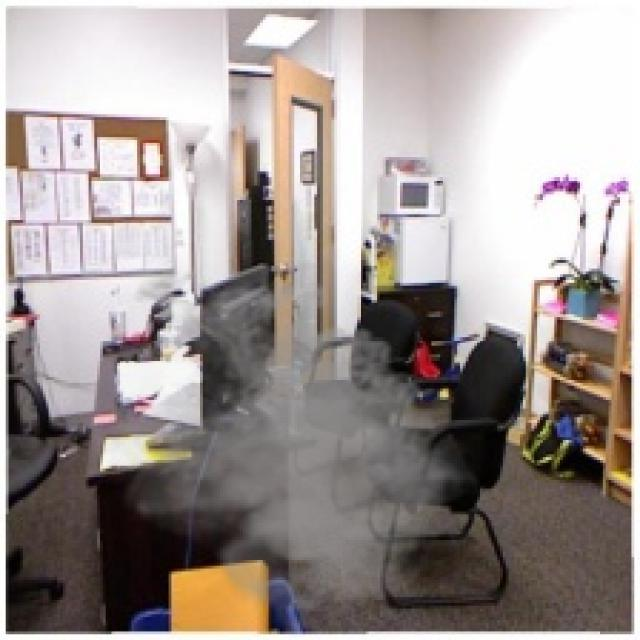smoke: (66, 257, 477, 637)
